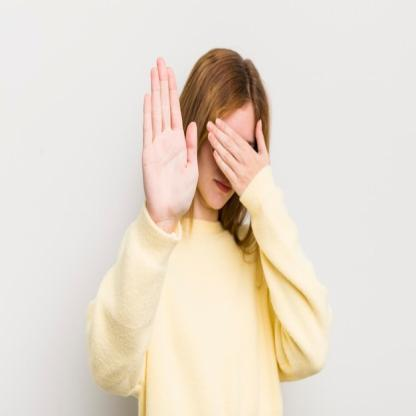stop: (138, 54, 202, 223)
